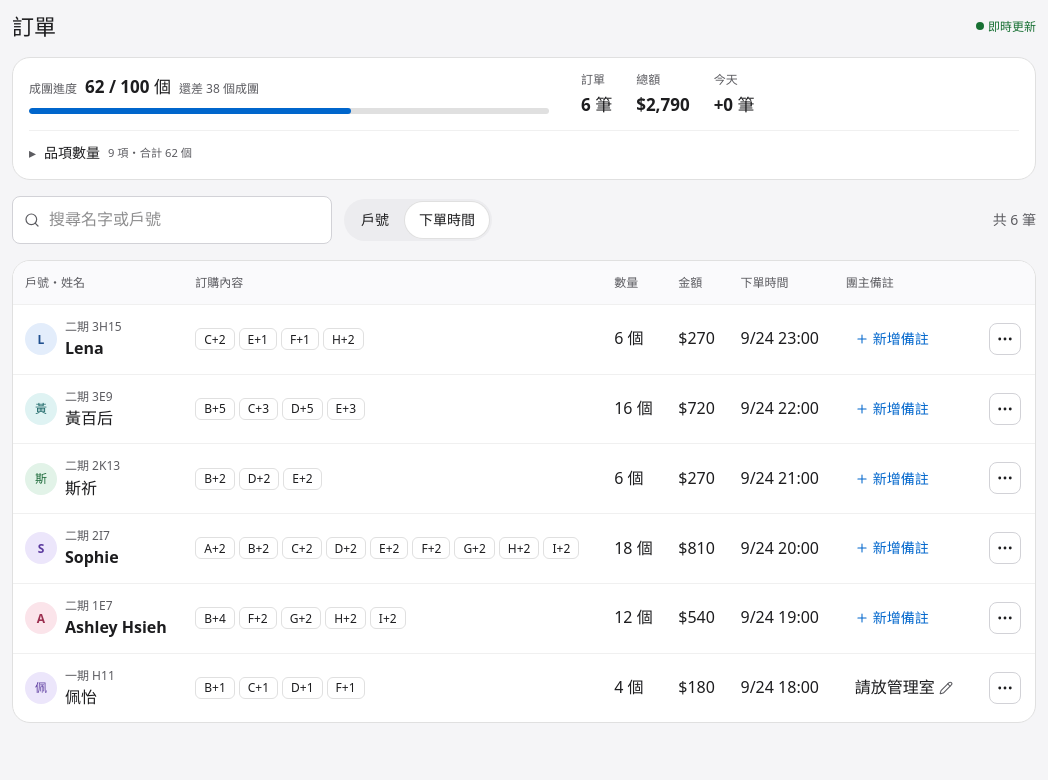
Test: OrdersSection › on a phone, where each order is a card › offers 新增備註 in the ⋯ menu of an order without a note, opening the note field
Click the button named "更多操作 1E7・".
click(1006, 618)  # box [990, 602, 1022, 634]
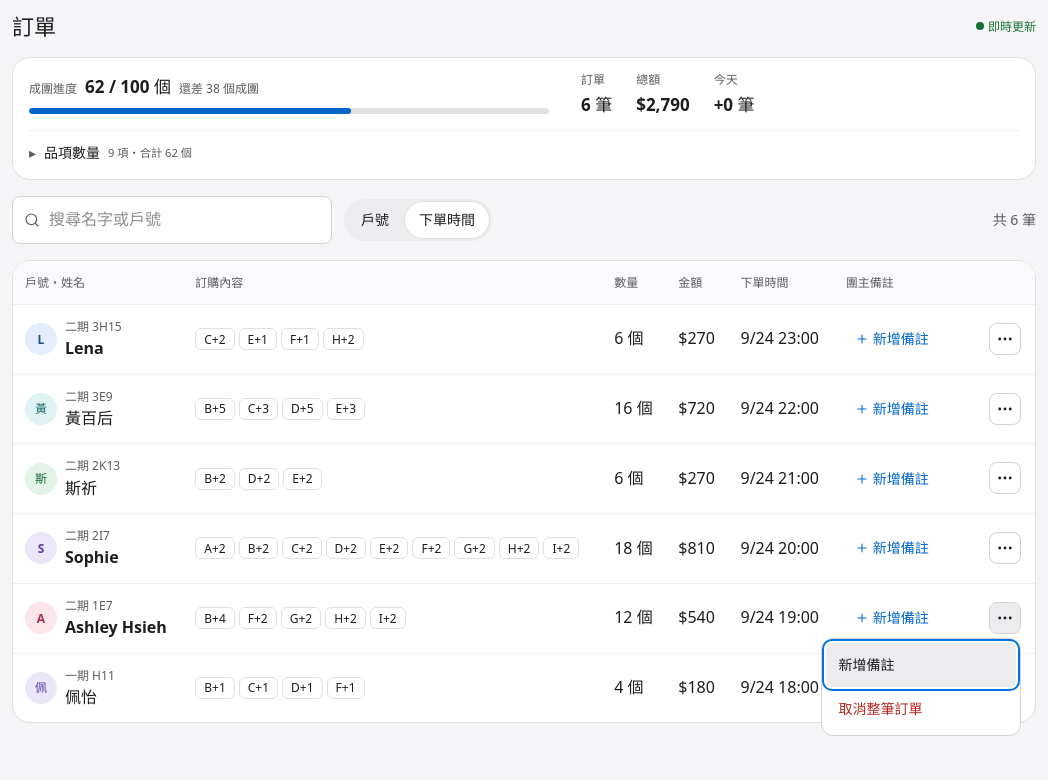
Check: the menu items read "新增備註", "取消整筆訂單", in this order
Click the menu item with aria-label "新增 1E7 備註".
click(922, 665)  # box [826, 643, 1016, 687]
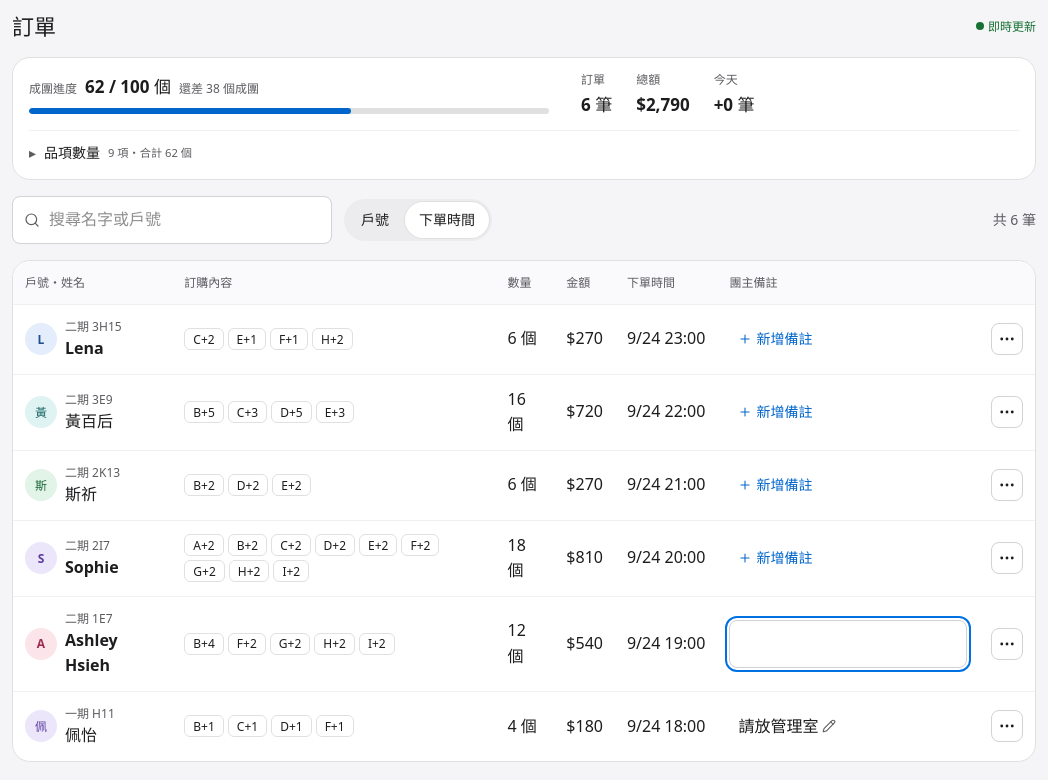
Type "放門口" into the field named "1E7 備註".
click(848, 644); type("放門口")  # box [729, 620, 967, 668]
Then press Enter
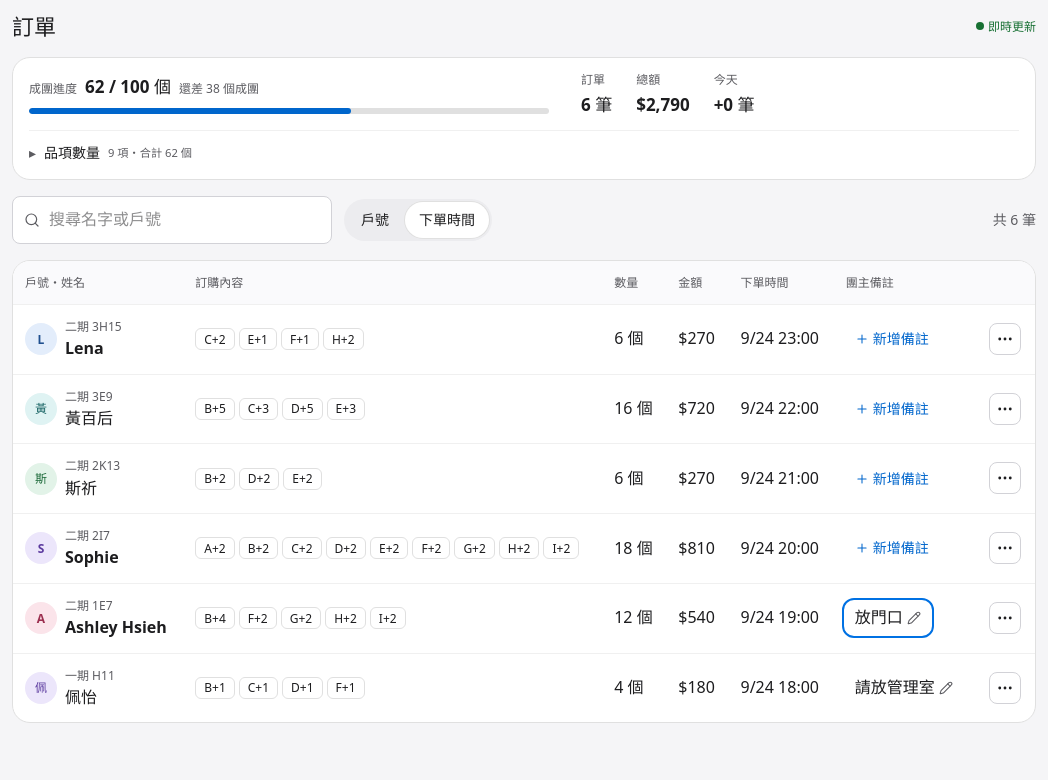
Note: An order that already has a note shows it on the card, so its menu has nothing to add.
Click the button named "更多操作 H11・佩怡".
click(1006, 688)  # box [990, 672, 1022, 704]
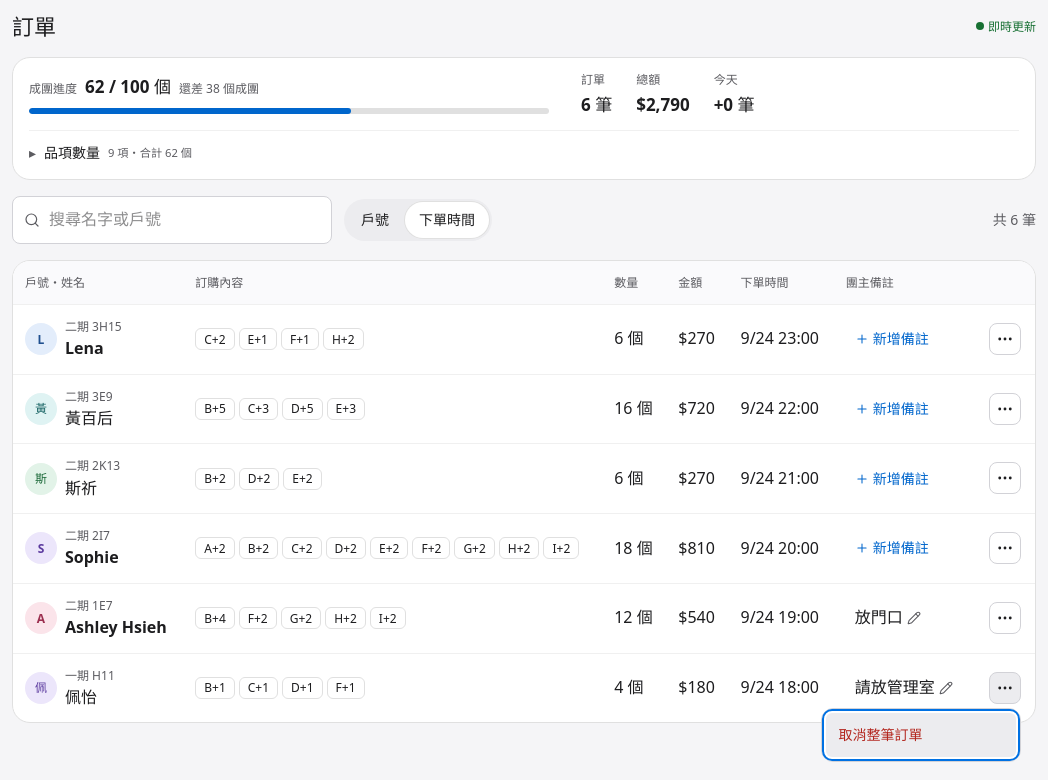
Check: the menu items read "取消整筆訂單", in this order, box [826, 713, 1016, 757]
